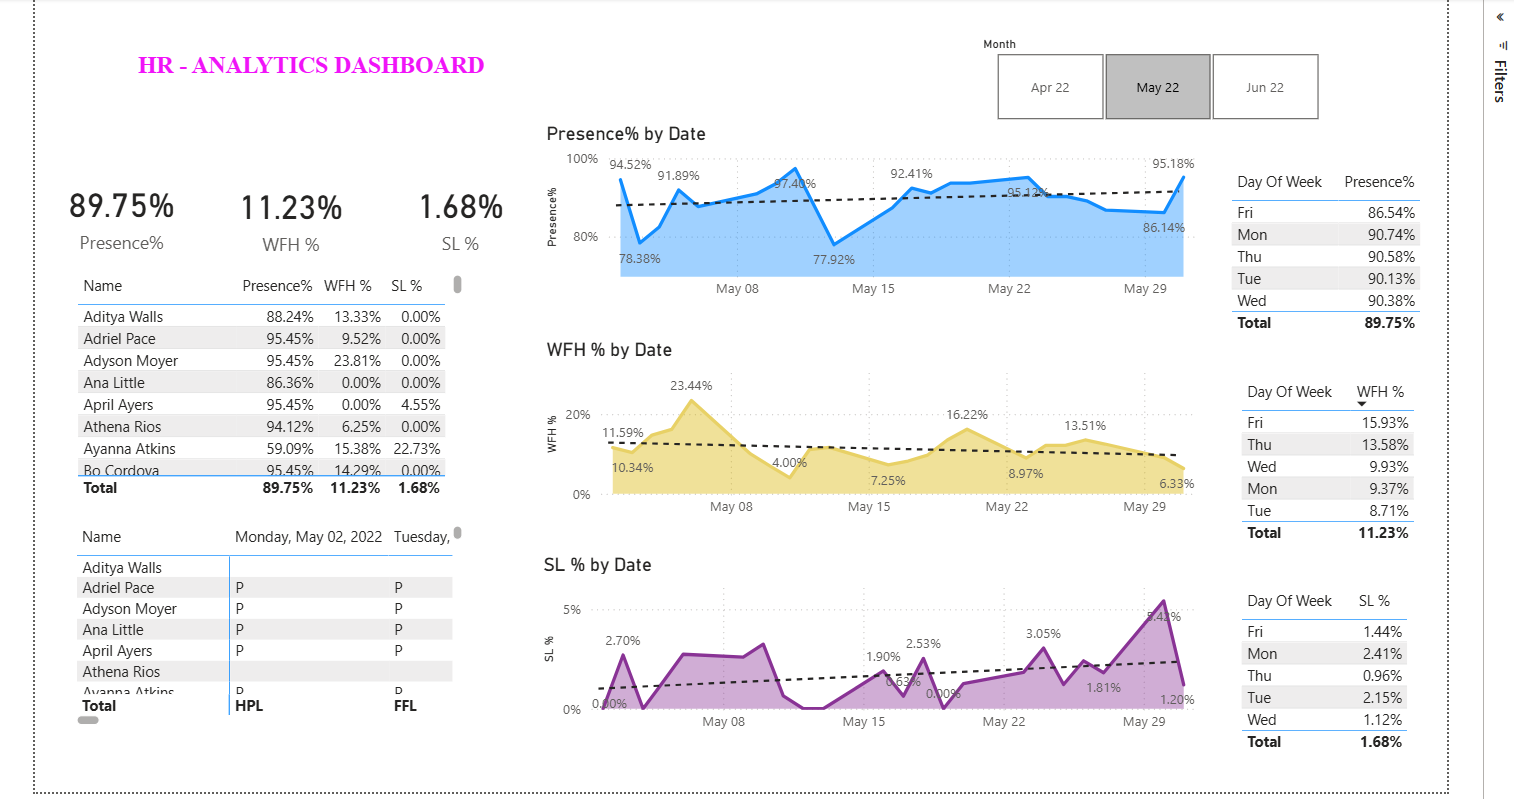

Layout of this report page (visuals, bound fields, positions):
{"tool":"powerbi","page":{"name":"Page 1","canvas":[1280,720],"ordinal":0},"visuals":[{"type":"card","fields":{"Values":["Measure Data.Presence%"]},"box":[10.3,149.3,136.9,93.7],"z":0},{"type":"slicer","fields":{"Values":["Final Data.Month"]},"box":[846.7,30.1,340.6,86.5],"z":1000},{"type":"card","fields":{"Values":["Measure Data.WFH %"]},"box":[162.7,149.3,139,96.8],"z":2000},{"type":"card","fields":{"Values":["Measure Data.SL %"]},"box":[314.2,148.6,142.1,96.9],"z":3000},{"type":"tableEx","fields":{"Values":["Final Data.Name","Measure Data.Presence%","Measure Data.WFH %","Measure Data.SL %"]},"box":[32.9,246.1,360.3,212.1],"z":4000},{"type":"pivotTable","fields":{"Rows":["Final Data.Name"],"Values":["Final Data.Value"],"Columns":["Final Data.Date"]},"box":[32.9,473.6,360.3,191.5],"z":5000},{"type":"areaChart","fields":{"Y":["Measure Data.Presence%"],"Category":["Final Data.Date"]},"box":[459.2,112.1,607.7,169.3],"z":6000},{"type":"areaChart","fields":{"Y":["Measure Data.WFH %"],"Category":["Final Data.Date"]},"box":[459.1,308.6,607.7,171.2],"z":7000},{"type":"areaChart","fields":{"Y":["Measure Data.SL %"],"Category":["Final Data.Date"]},"box":[456.3,503.3,610.5,171.2],"z":8000},{"type":"tableEx","fields":{"Values":["Final Data.Day Of Week","Measure Data.Presence%"]},"box":[1078.9,151.3,187.4,169.9],"z":9000},{"type":"tableEx","fields":{"Values":["Final Data.Day Of Week","Measure Data.WFH %"]},"box":[1088.2,341.8,178.1,170.9],"z":10000},{"type":"tableEx","fields":{"Values":["Final Data.Day Of Week","Measure Data.SL %"]},"box":[1088.2,531.2,178.1,171.9],"z":11000},{"type":"textbox","box":[0,44.2,506.1,67.7],"z":12000}]}

Visuals, with their boxes on the page's 1280x720 design canvas (x1, y1, x2, y2). These are canvas units, not pixel positions in the 1514x799 screenshot, which may show the page scaled, cropped or inside an application window:
card - Measure Data.Presence%: bbox=[10, 149, 147, 243]
slicer - Final Data.Month: bbox=[847, 30, 1187, 117]
card - Measure Data.WFH %: bbox=[163, 149, 302, 246]
card - Measure Data.SL %: bbox=[314, 149, 456, 246]
tableEx - Final Data.Name x Measure Data.Presence%: bbox=[33, 246, 393, 458]
pivotTable - Final Data.Name x Final Data.Value: bbox=[33, 474, 393, 665]
areaChart - Measure Data.Presence% x Final Data.Date: bbox=[459, 112, 1067, 281]
areaChart - Measure Data.WFH % x Final Data.Date: bbox=[459, 309, 1067, 480]
areaChart - Measure Data.SL % x Final Data.Date: bbox=[456, 503, 1067, 674]
tableEx - Final Data.Day Of Week x Measure Data.Presence%: bbox=[1079, 151, 1266, 321]
tableEx - Final Data.Day Of Week x Measure Data.WFH %: bbox=[1088, 342, 1266, 513]
tableEx - Final Data.Day Of Week x Measure Data.SL %: bbox=[1088, 531, 1266, 703]
textbox: bbox=[0, 44, 506, 112]
